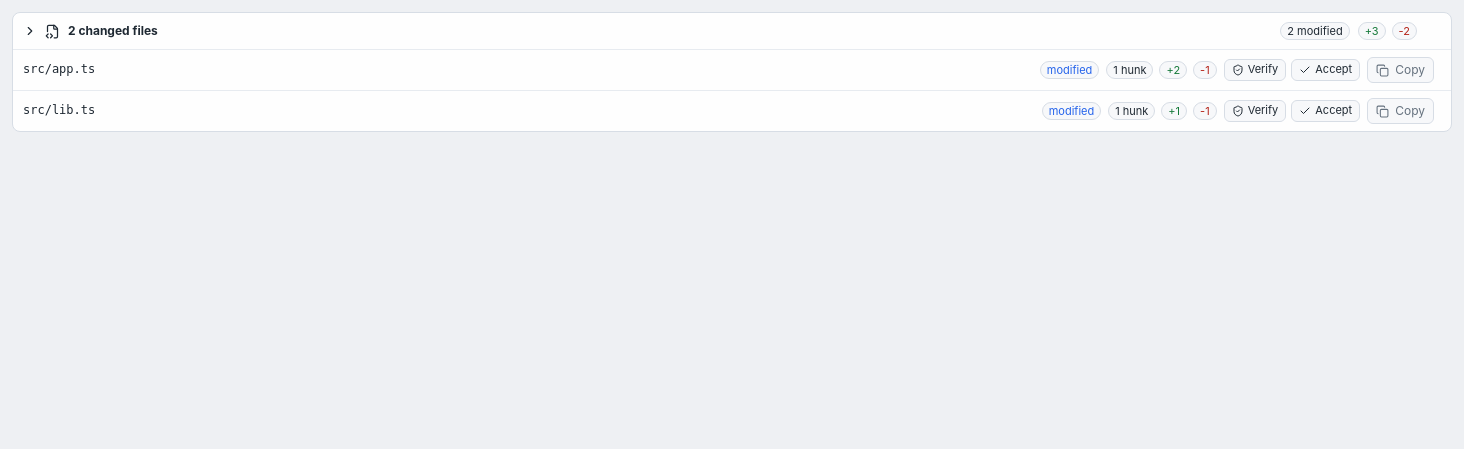
CurrentTurnChangeCard › summarizes changed files and expands per-file diffs
Expected: the element "changed files" is shown, [12,12,1452,132]
Expected: the text "modified" in the row of "src/app.ts" is shown, [1047,63,1092,77]
What coordinates should you click on to do the following:
click the button "2 changed files 2 modified +3 -2"
I would click on:
 (104, 31)
Its box is [13,13,1451,49].
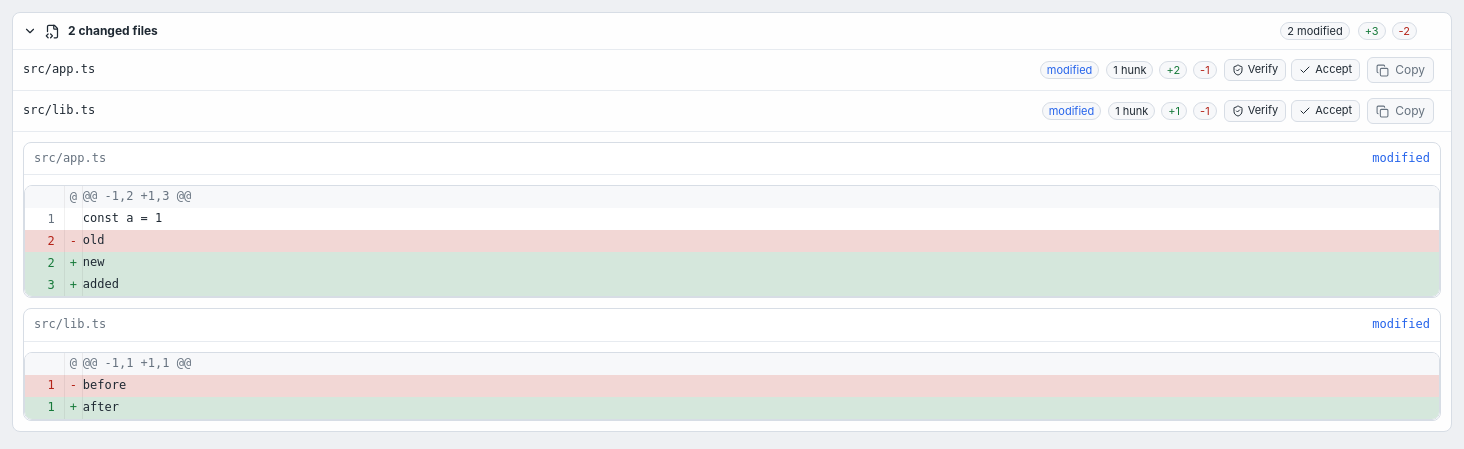
Expected: the row with class "diff-line-add" shows "new", [83,255,104,269]
Expected: the row with class "diff-line-remove" shows "old", [83,233,104,247]
